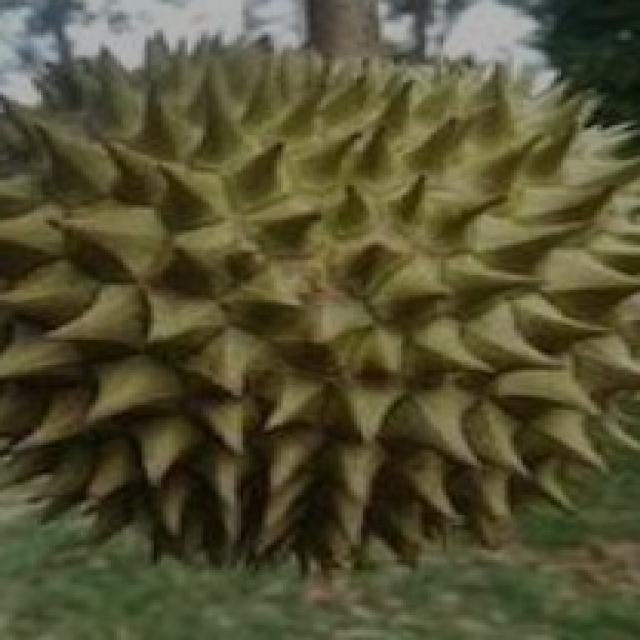fruit: (0, 244, 378, 627)
